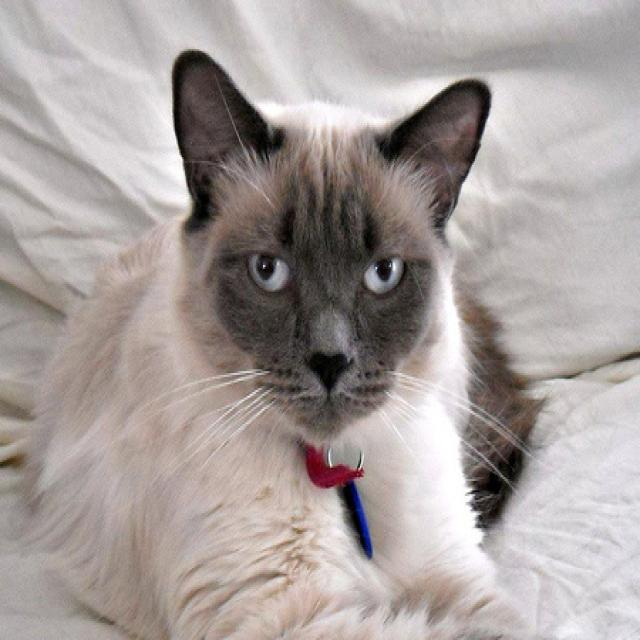Siamese: (15, 45, 640, 639)
